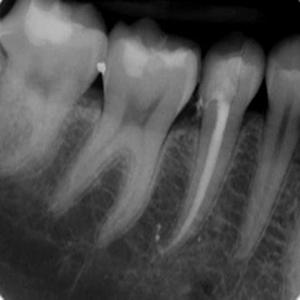tooth: (54, 20, 202, 254), (166, 42, 264, 252), (2, 2, 106, 194), (246, 33, 299, 254)
